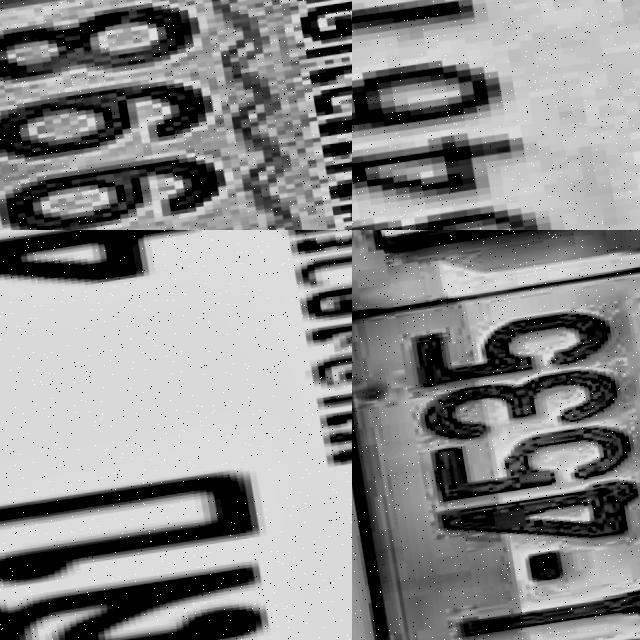license-plate: (0, 230, 352, 640), (352, 254, 640, 640), (0, 0, 352, 230), (352, 0, 640, 230)
